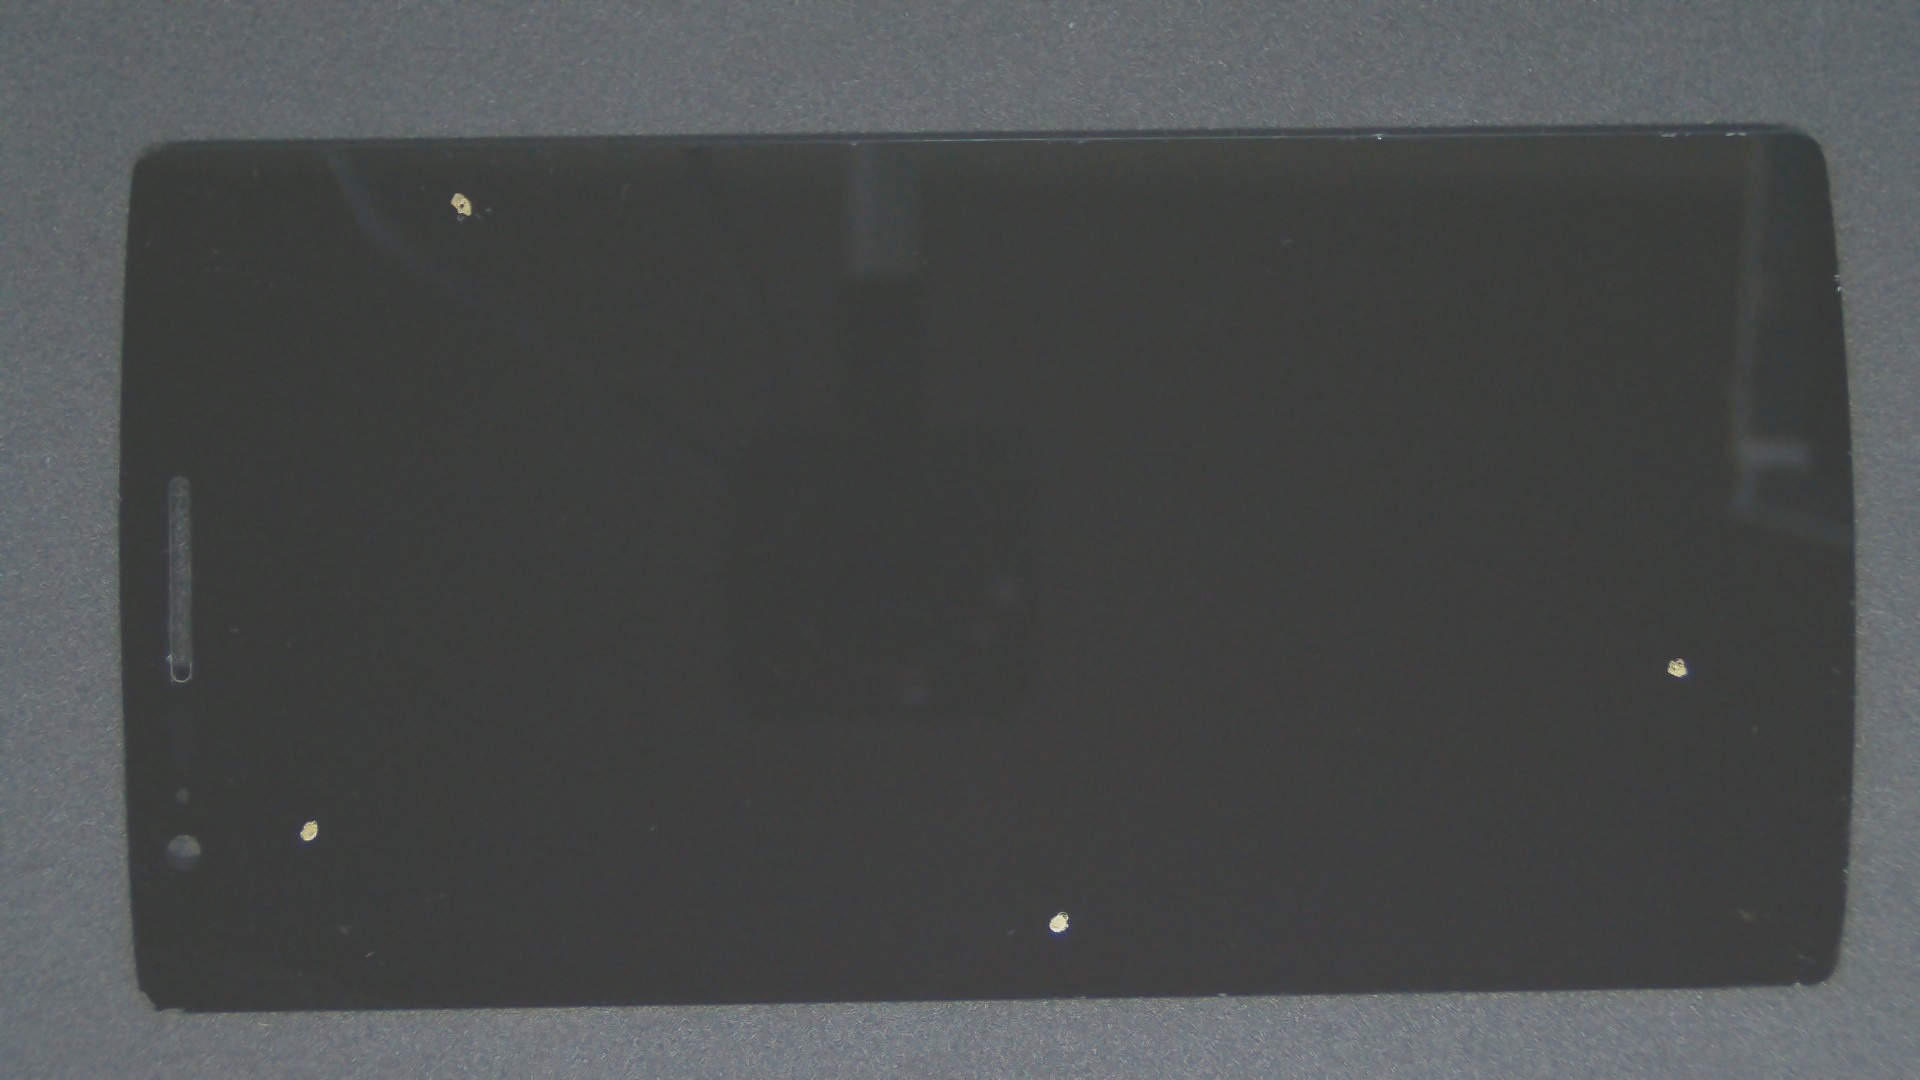oil: (840, 327, 1920, 985), (530, 454, 1586, 1080), (158, 409, 472, 1080), (231, 95, 690, 286)
